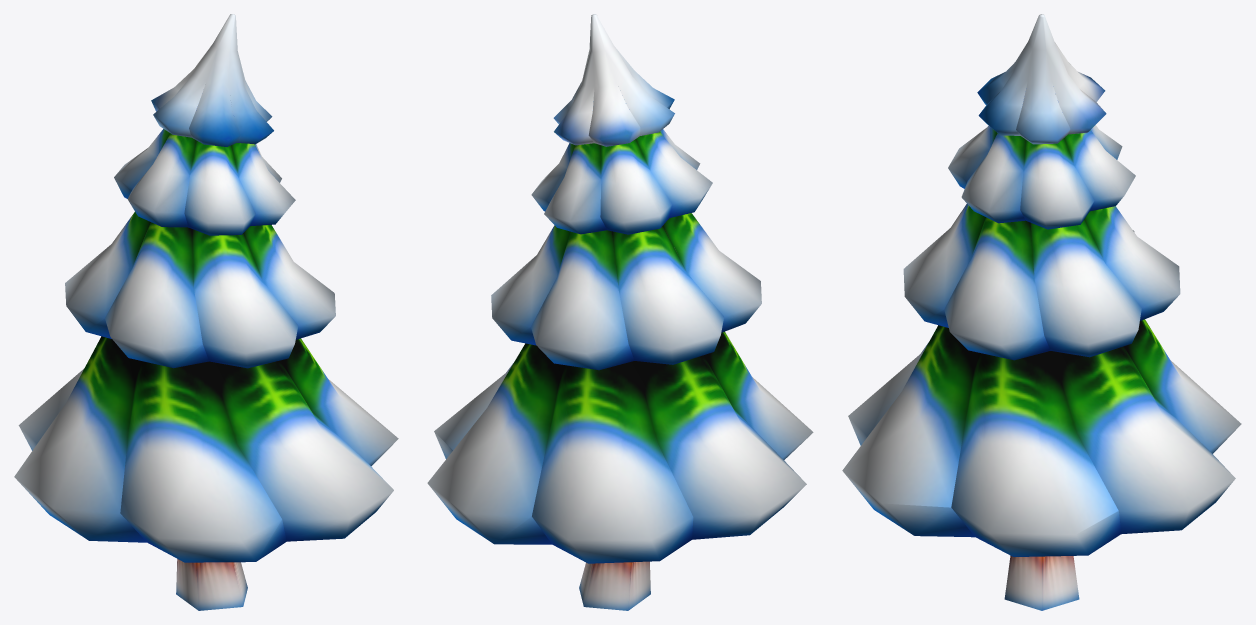
Rendered from Object_Spruce.FBX.
The picture shows the model from 3 angles, left to right: view 1: azimuth 30°, elevation 25°; view 2: azimuth 150°, elevation 25°; view 3: azimuth 270°, elevation 25°; orthographic projection.
Parts seen in each view (by area): view 1: spruce; view 2: spruce; view 3: spruce.
Boxes of the visible parts, x1,y1,x2,y2 form: spruce: (14,14,398,610); spruce: (427,14,813,610); spruce: (842,14,1241,610).
Size of the model in its own units: 65.49 by 106 by 65.37.
